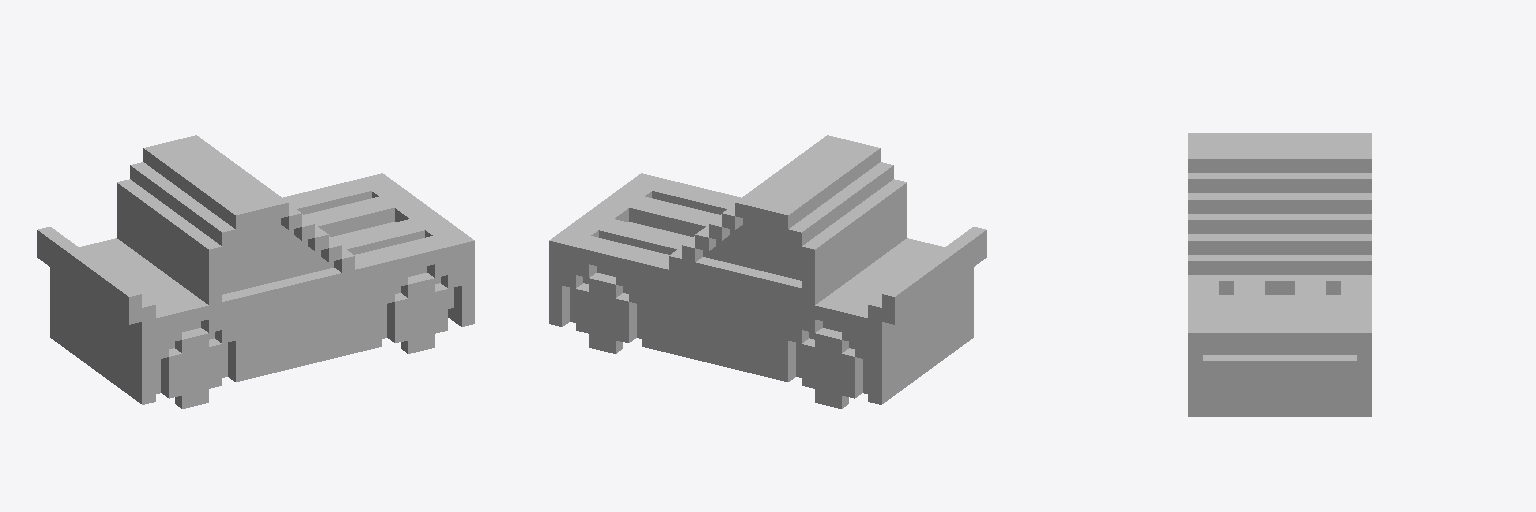
The model's file is car2.obj.
3 renders of one model, left to right at view 1: azimuth 30°, elevation 25°; view 2: azimuth 150°, elevation 25°; view 3: azimuth 270°, elevation 25°, orthographic.
Visible parts, largest first — view 1: car2; view 2: car2; view 3: car2.
Part boxes in pixels (left/top/right/bottom): car2: left=37, top=135, right=474, bottom=408; car2: left=549, top=135, right=986, bottom=408; car2: left=1188, top=133, right=1371, bottom=416.
Size of the model in its own units: 26 by 13 by 12.